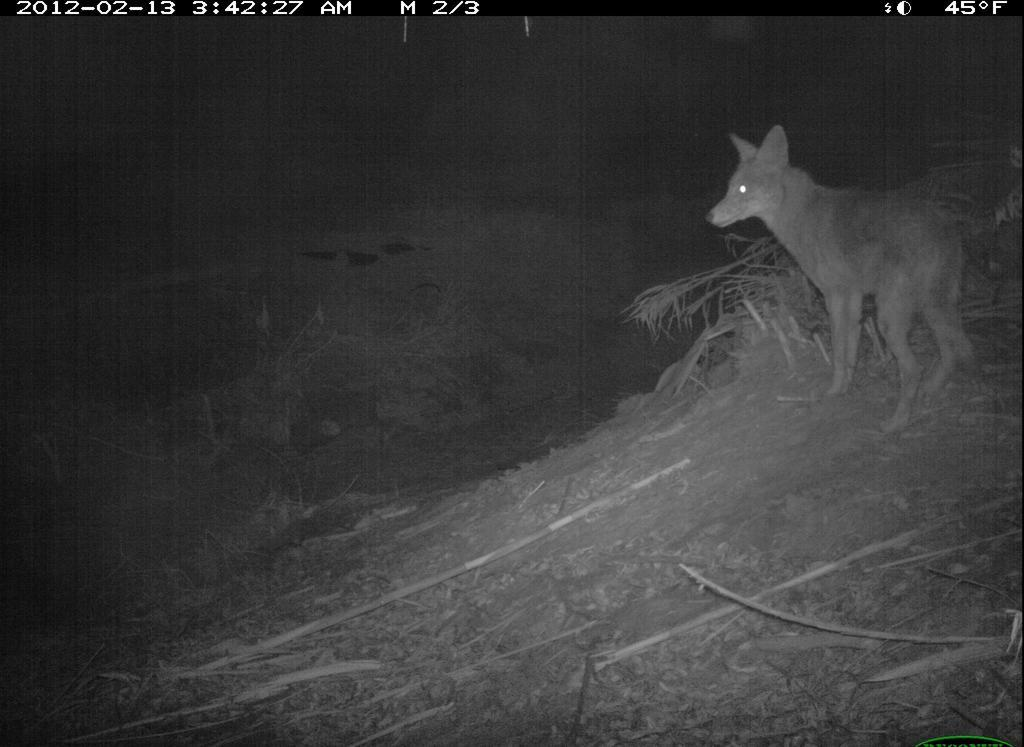coyote: (711, 120, 986, 446)
